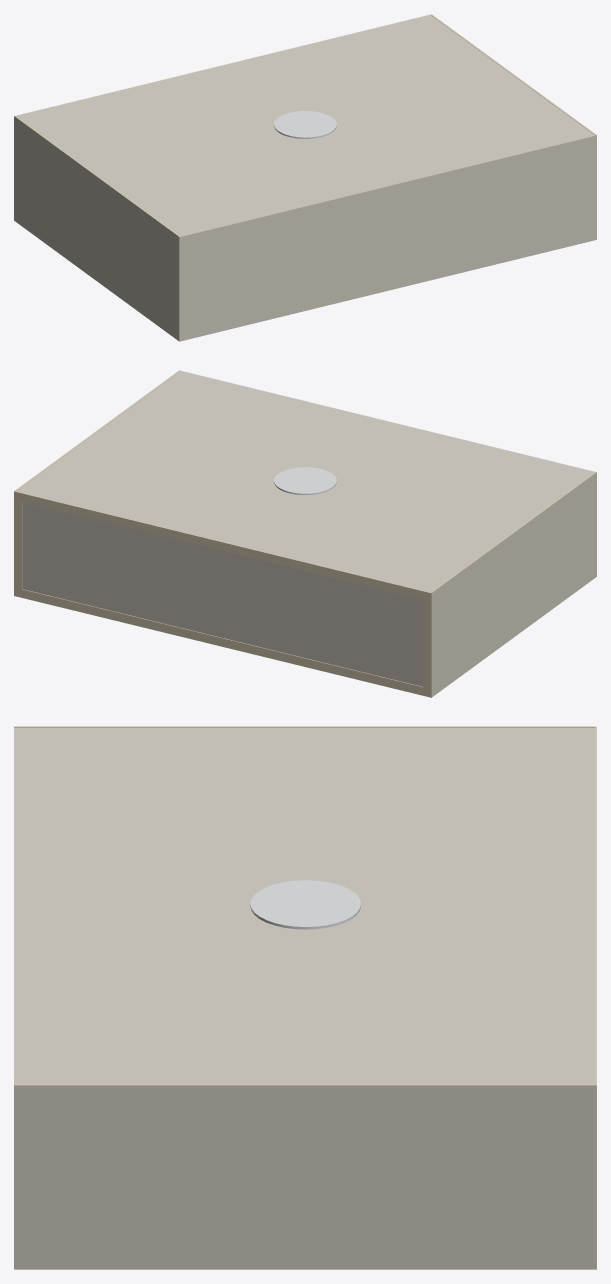
The model's file is v2-real-footwell-bed-0.glb.
3 renders of one model, top to bottom at view 1: azimuth 30°, elevation 25°; view 2: azimuth 150°, elevation 25°; view 3: azimuth 270°, elevation 25°, orthographic. The views are drawn at different scales.
Size of the model in its own units: 920 by 223 by 632.
